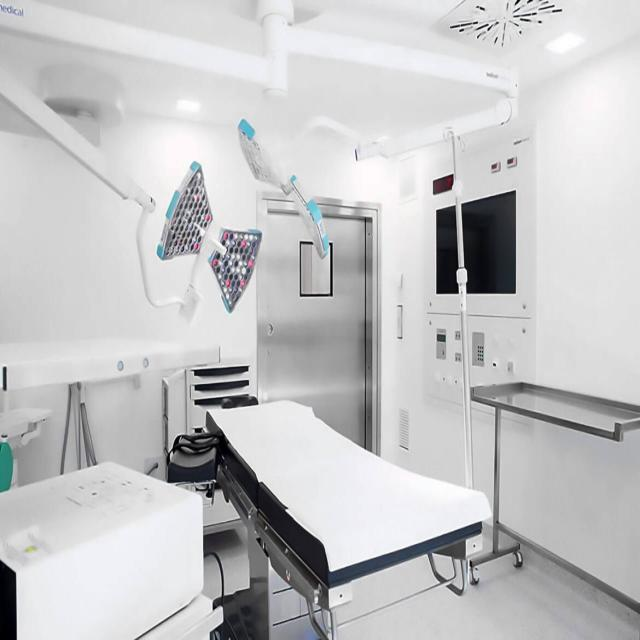Saline Stand: (417, 123, 483, 598)
bed: (204, 397, 491, 638)
tools_table: (449, 367, 640, 595)
